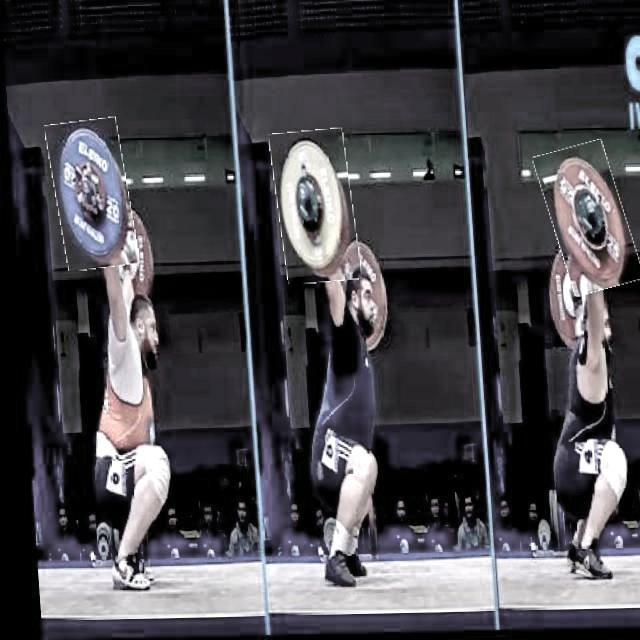barbell: (537, 146, 634, 297), (270, 131, 357, 285), (46, 118, 133, 271)
